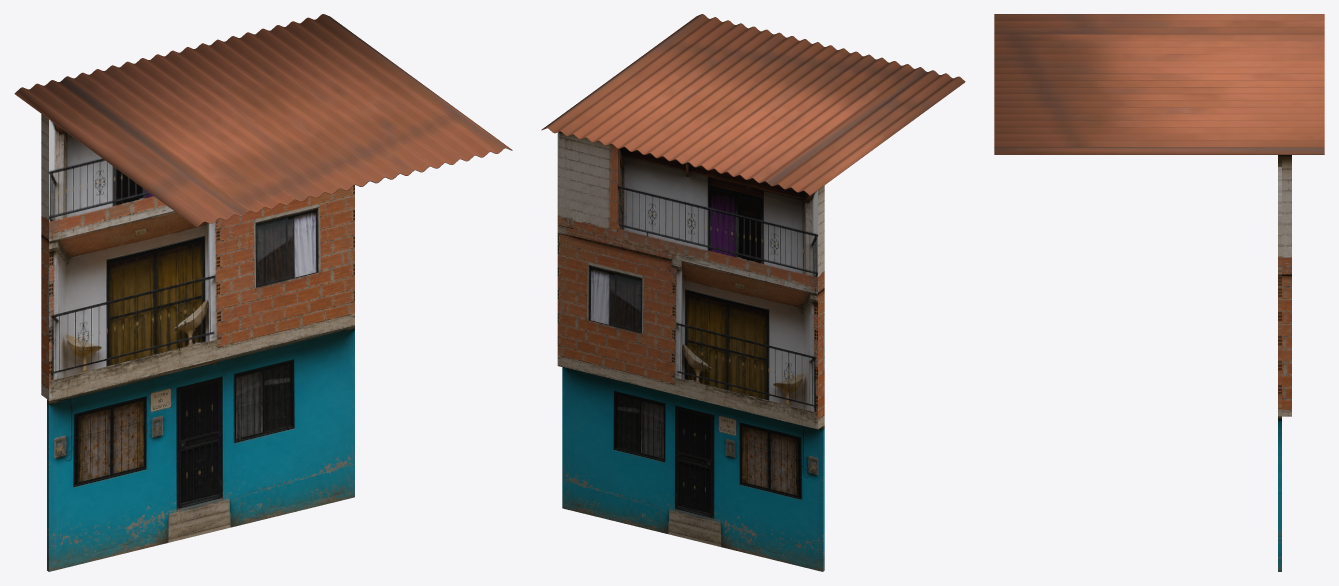
The model's file is casa_izquierda_03.fbx.
3 views of the same model, side by side, from view 1: azimuth 30°, elevation 25°; view 2: azimuth 150°, elevation 25°; view 3: azimuth 270°, elevation 25° (orthographic). The views are drawn at different scales.
Visible parts, largest first — view 1: casa_izquierda_03.001, Techo_03.001; view 2: casa_izquierda_03.001, Techo_03.001; view 3: Techo_03.001, casa_izquierda_03.001.
Part boxes in pixels (x1=…): casa_izquierda_03.001: x1=41, y1=114, x2=354, y2=571; Techo_03.001: x1=14, y1=14, x2=512, y2=227; casa_izquierda_03.001: x1=557, y1=131, x2=824, y2=571; Techo_03.001: x1=541, y1=14, x2=965, y2=195; Techo_03.001: x1=994, y1=14, x2=1324, y2=154; casa_izquierda_03.001: x1=1278, y1=155, x2=1291, y2=571.
Size of the model in its own units: 515 by 726 by 515.
